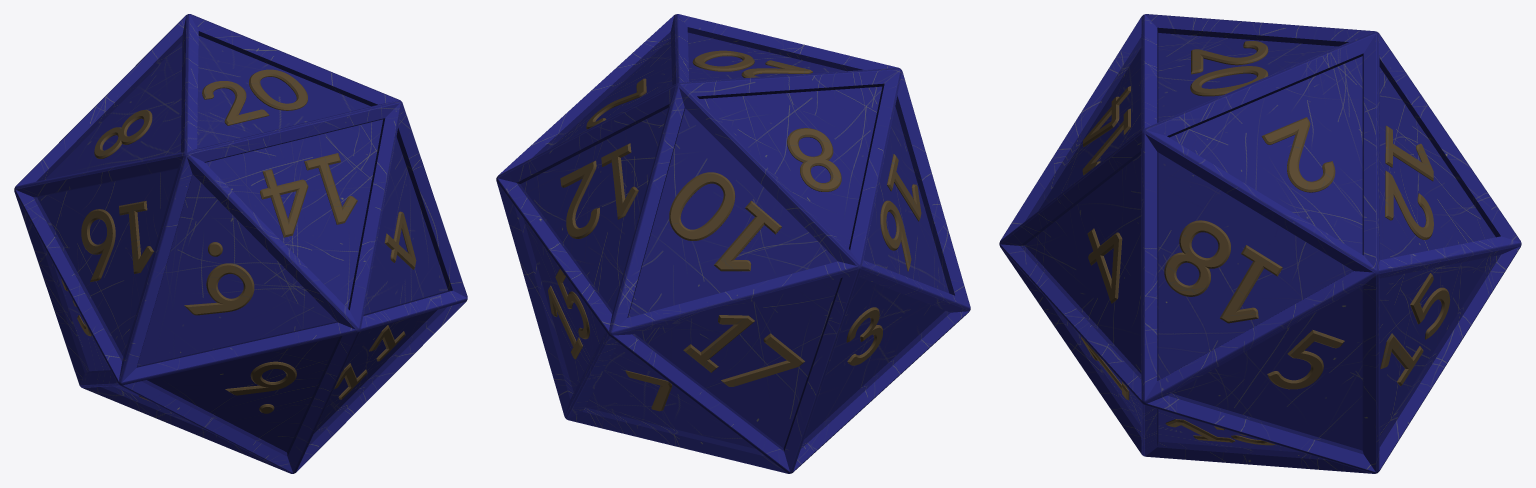
3 views of the same model, side by side, from view 1: azimuth 30°, elevation 25°; view 2: azimuth 150°, elevation 25°; view 3: azimuth 270°, elevation 25° (orthographic). The views are drawn at different scales.
Parts seen in each view (by area): view 1: dice_body, dice_numbers; view 2: dice_body, dice_numbers; view 3: dice_body, dice_numbers.
Part boxes in pixels (x1,y1,x2,y2): dice_body: (14, 14, 467, 473); dice_numbers: (61, 69, 416, 413); dice_body: (496, 14, 970, 473); dice_numbers: (548, 50, 921, 411); dice_body: (999, 14, 1521, 473); dice_numbers: (1081, 41, 1449, 445).
Size of the model in its own units: 170 by 178 by 199.
2 materials, 2 textured.
